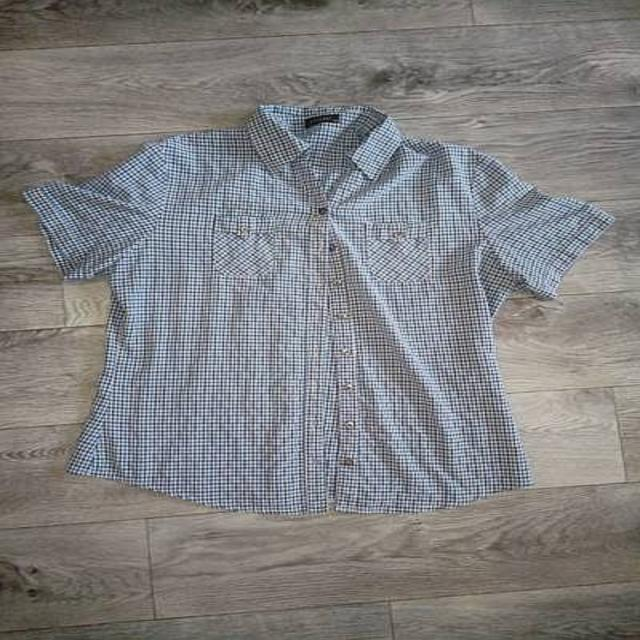SHIRT: (3, 86, 626, 527)
